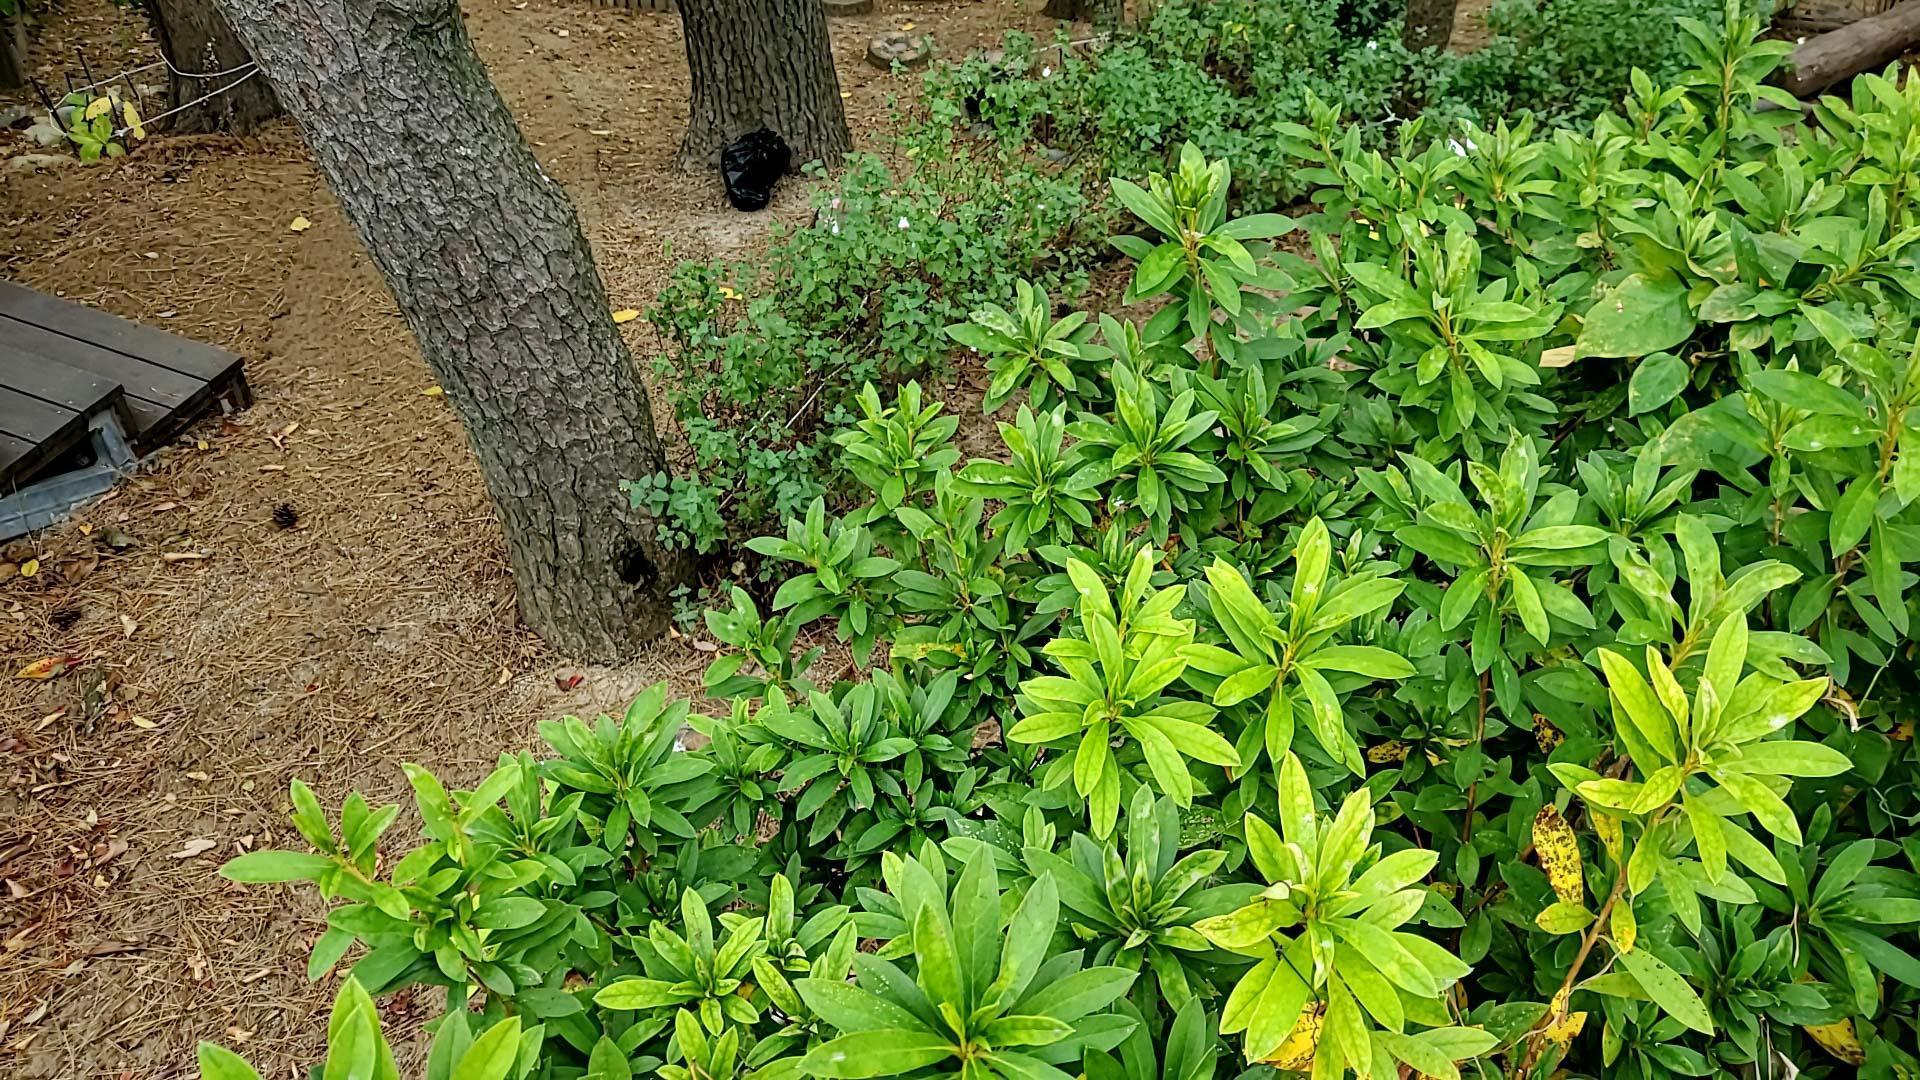black_bag: (713, 123, 799, 212)
